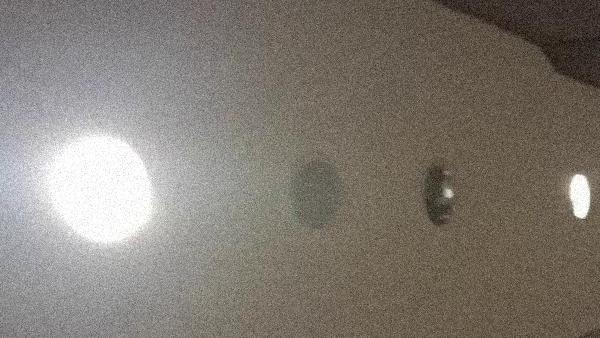light_off: (407, 134, 472, 242)
